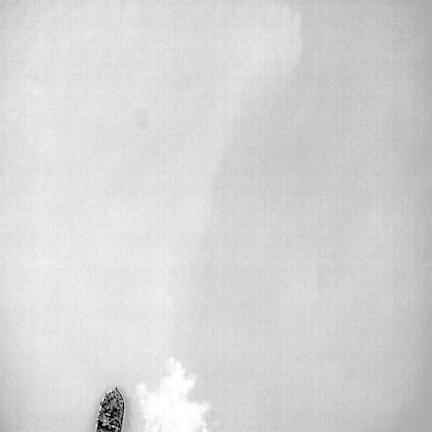flukeprints: (138, 359, 208, 431)
